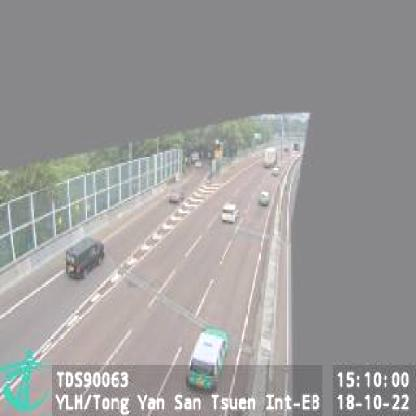Car: (183, 328, 230, 392), (64, 236, 106, 280), (220, 202, 242, 223), (167, 186, 186, 205), (257, 189, 271, 206), (271, 167, 280, 177)
Truck: (261, 147, 279, 168)
